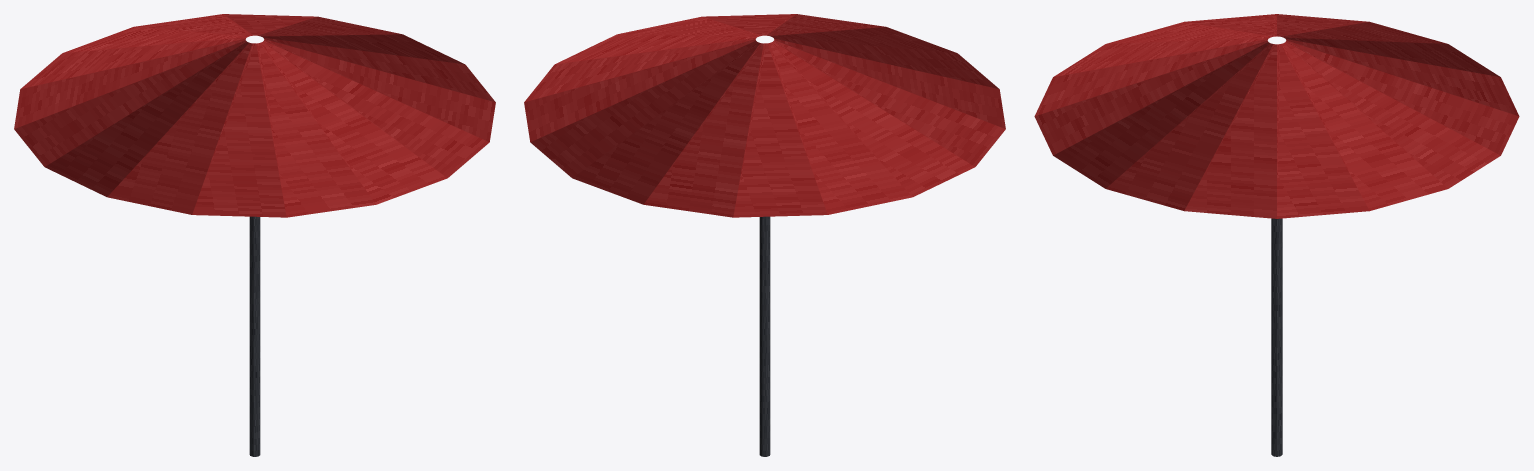
The model's file is Sombrilla.obj.
The picture shows the model from 3 angles, left to right: view 1: azimuth 30°, elevation 25°; view 2: azimuth 150°, elevation 25°; view 3: azimuth 270°, elevation 25°; orthographic projection.
Bounding box in the file's own units: 2.6 × 2.45 × 2.6.
Materials: 2 (2 with a texture image).
